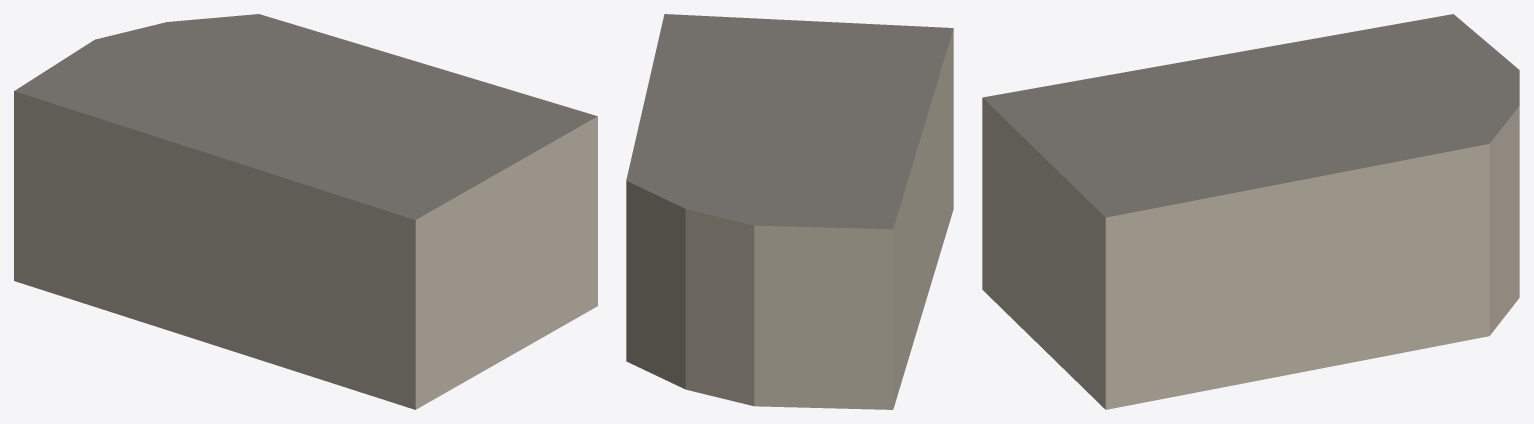
3 views of the same model, side by side, from view 1: azimuth 30°, elevation 25°; view 2: azimuth 150°, elevation 25°; view 3: azimuth 270°, elevation 25° (orthographic). The views are drawn at different scales.
Visible parts, largest first — view 1: HP-w144010288; view 2: HP-w144010288; view 3: HP-w144010288.
Boxes of the visible parts, x1,y1,x2,y2 form: HP-w144010288: (14, 14, 597, 409); HP-w144010288: (626, 14, 953, 409); HP-w144010288: (982, 14, 1519, 409).
Size of the model in its own units: 40.89 by 18 by 45.56.
